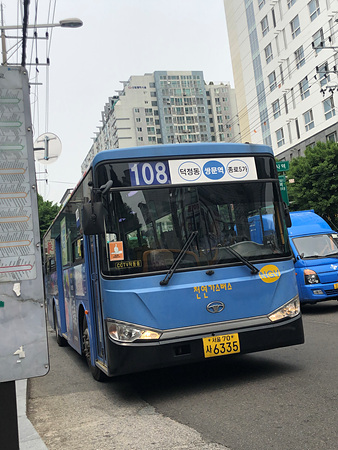bnum: (130, 161, 167, 184)
